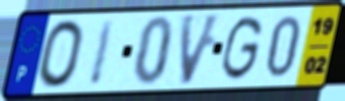0: (130, 14, 176, 88), (264, 14, 304, 80)
G: (219, 14, 265, 83)
I: (86, 17, 118, 88)
O: (35, 17, 86, 91)
V: (178, 11, 225, 89)
